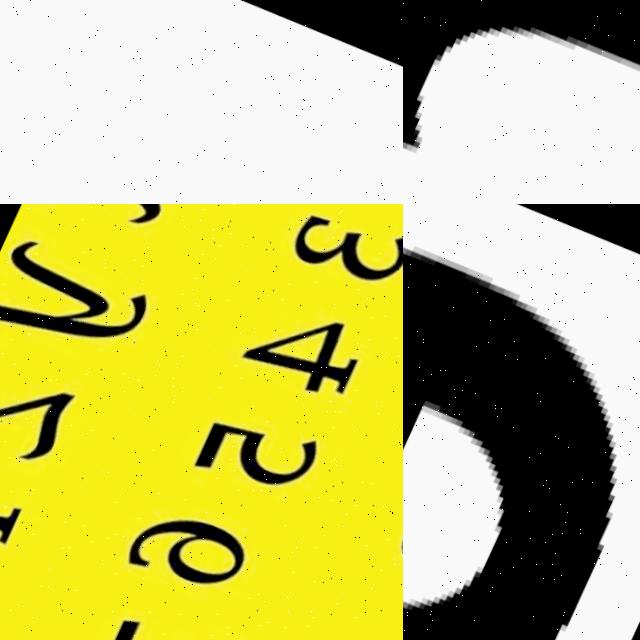1: (0, 463, 29, 566)
3: (275, 204, 403, 316)
4: (222, 284, 380, 425)
5: (175, 391, 331, 527)
6: (102, 485, 262, 622)
7: (73, 590, 236, 640)
E: (403, 253, 618, 640)
I: (0, 37, 403, 204)
R: (403, 0, 640, 204)
